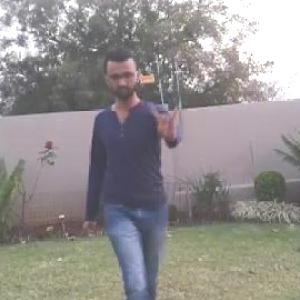takeoff-hand: (146, 94, 188, 146)
